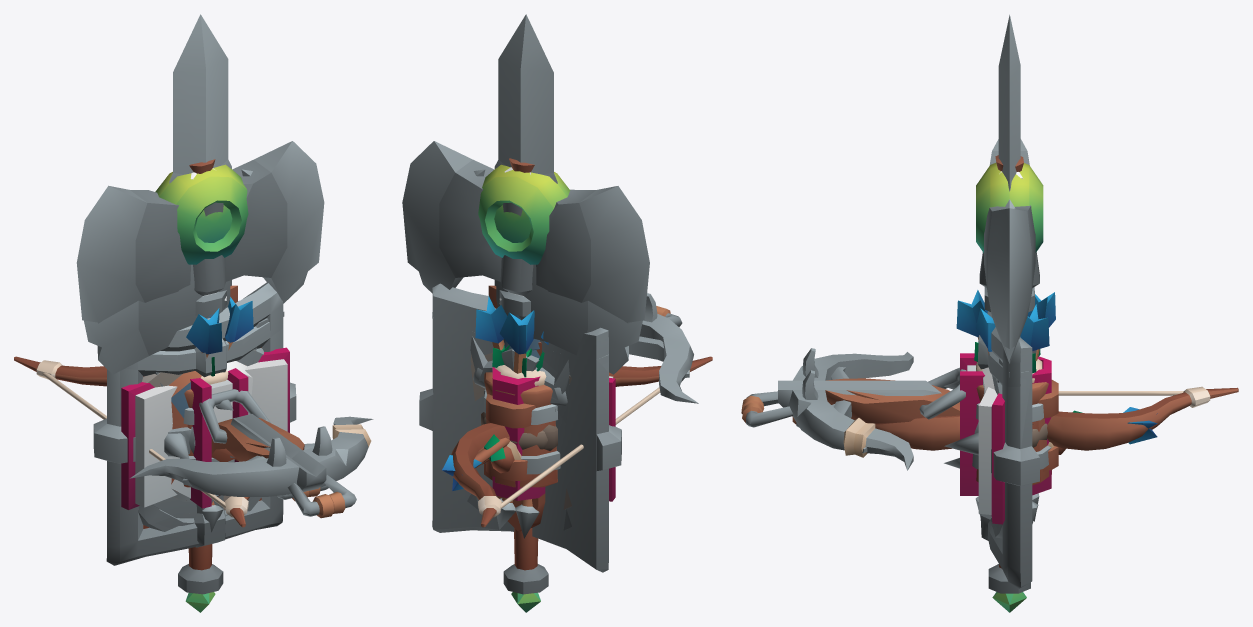
The model's file is items.glb.
3 views of the same model, side by side, from view 1: azimuth 30°, elevation 25°; view 2: azimuth 150°, elevation 25°; view 3: azimuth 270°, elevation 25° (orthographic).
Parts seen in each view (by area): view 1: axe_2handed, crossbow_2handed, staff, spellbook_open, shield_spikes, shield_square, sword_2handed, axe_1handed, crossbow_1handed, spellbook_closed, arrow_bow_bundle, bow_withString (+4 smaller); view 2: axe_2handed, shield_square, staff, sword_2handed, axe_1handed, spellbook_closed, crossbow_2handed, arrow_bow_bundle, bow_withString, shield_spikes, bow, mug_full (+8 smaller); view 3: crossbow_2handed, axe_2handed, bow_withString, shield_square, staff, shield_spikes, spellbook_closed, sword_2handed, spellbook_open, arrow_bow_bundle, crossbow_1handed, bow (+1 smaller).
Boxes of the visible parts, x1=… form: axe_2handed: x1=76, y1=141, x2=324, y2=323; crossbow_2handed: x1=130, y1=389, x2=373, y2=518; staff: x1=155, y1=164, x2=252, y2=612; spellbook_open: x1=121, y1=347, x2=289, y2=509; shield_spikes: x1=93, y1=322, x2=296, y2=547; shield_square: x1=106, y1=282, x2=283, y2=565; sword_2handed: x1=155, y1=14, x2=284, y2=386; axe_1handed: x1=84, y1=264, x2=230, y2=374; crossbow_1handed: x1=182, y1=389, x2=328, y2=501; spellbook_closed: x1=190, y1=368, x2=248, y2=508; arrow_bow_bundle: x1=186, y1=297, x2=253, y2=532; bow_withString: x1=14, y1=357, x2=249, y2=526; axe_2handed: x1=402, y1=141, x2=649, y2=358; shield_square: x1=432, y1=283, x2=608, y2=572; staff: x1=474, y1=164, x2=570, y2=612; sword_2handed: x1=470, y1=14, x2=569, y2=400; axe_1handed: x1=496, y1=264, x2=642, y2=374; spellbook_closed: x1=486, y1=367, x2=545, y2=500; crossbow_2handed: x1=490, y1=293, x2=698, y2=472; arrow_bow_bundle: x1=475, y1=296, x2=548, y2=538; bow_withString: x1=451, y1=356, x2=712, y2=526; shield_spikes: x1=419, y1=312, x2=621, y2=526; bow: x1=452, y1=356, x2=711, y2=527; mug_full: x1=484, y1=365, x2=560, y2=482; crossbow_2handed: x1=741, y1=348, x2=1065, y2=470; axe_2handed: x1=979, y1=139, x2=1039, y2=363; bow_withString: x1=875, y1=386, x2=1236, y2=450; shield_square: x1=987, y1=311, x2=1032, y2=588; staff: x1=976, y1=163, x2=1043, y2=612; shield_spikes: x1=944, y1=335, x2=1039, y2=540; spellbook_closed: x1=960, y1=353, x2=1058, y2=495; sword_2handed: x1=996, y1=14, x2=1036, y2=392; spellbook_open: x1=978, y1=387, x2=1004, y2=524; arrow_bow_bundle: x1=956, y1=290, x2=1055, y2=523; crossbow_1handed: x1=792, y1=366, x2=1060, y2=453; bow: x1=880, y1=387, x2=1238, y2=439.
Bounding box in the file's own units: 1.24 × 2.86 × 2.16.
5 materials, 5 textured.
